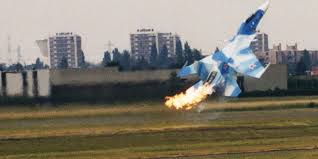maybay_muctieu: (188, 3, 277, 103)
